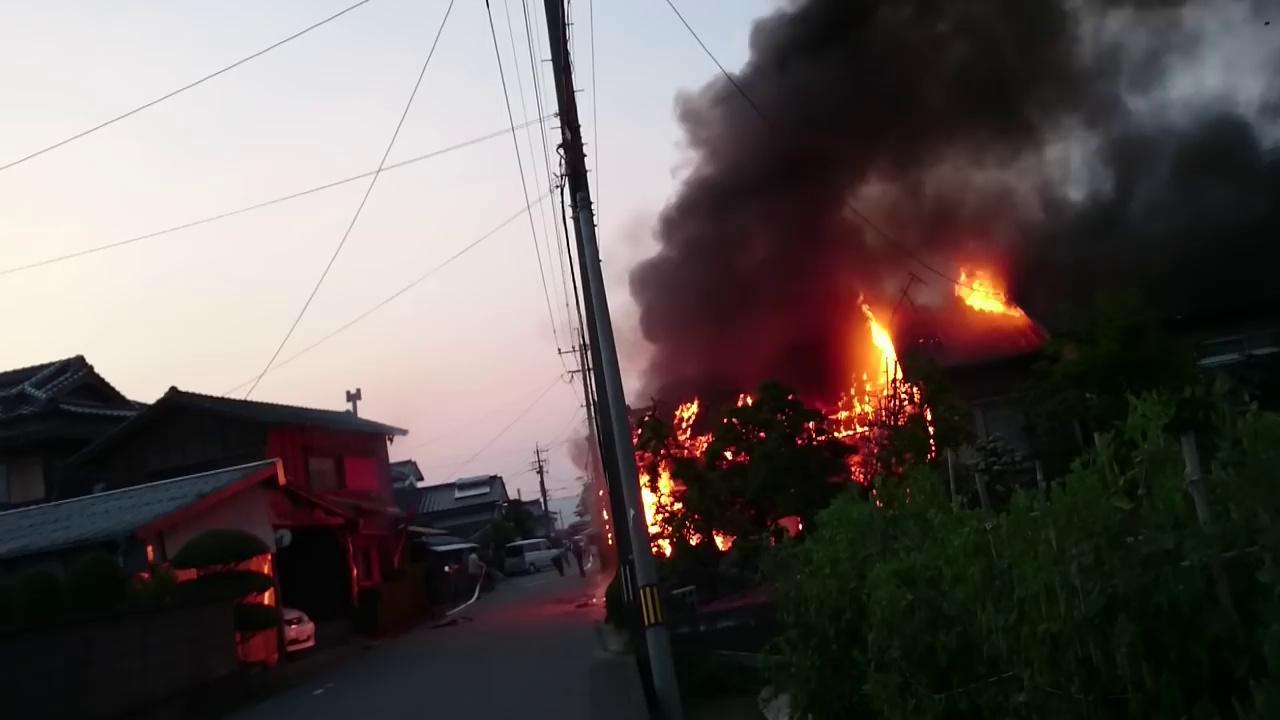Fire: (826, 297, 902, 441), (641, 464, 697, 560), (956, 273, 1027, 321), (674, 400, 716, 458), (715, 532, 739, 556)
